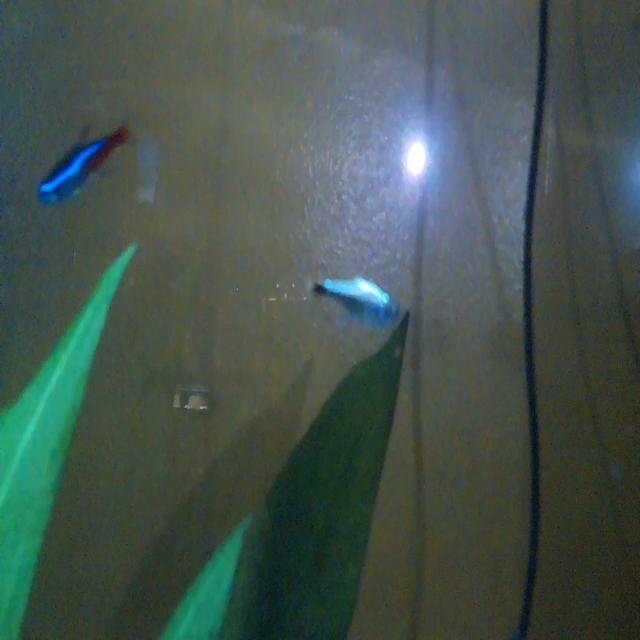fish: (26, 100, 134, 213), (310, 266, 402, 333)
